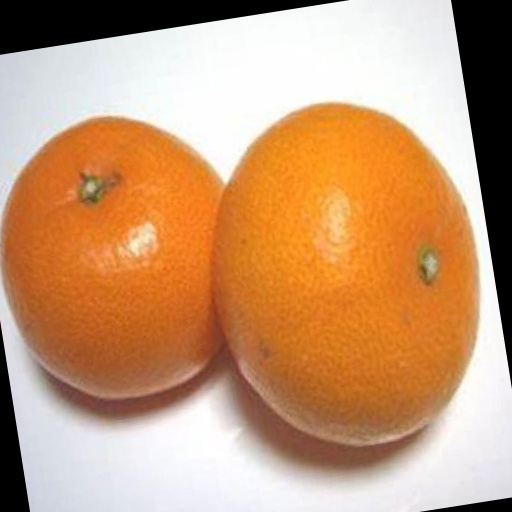fruit: (214, 104, 478, 444), (0, 118, 221, 398)
